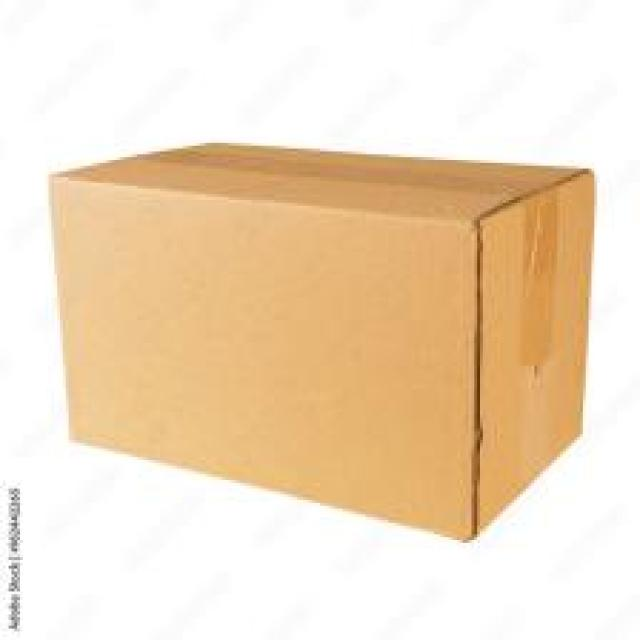box: (49, 141, 598, 545)
